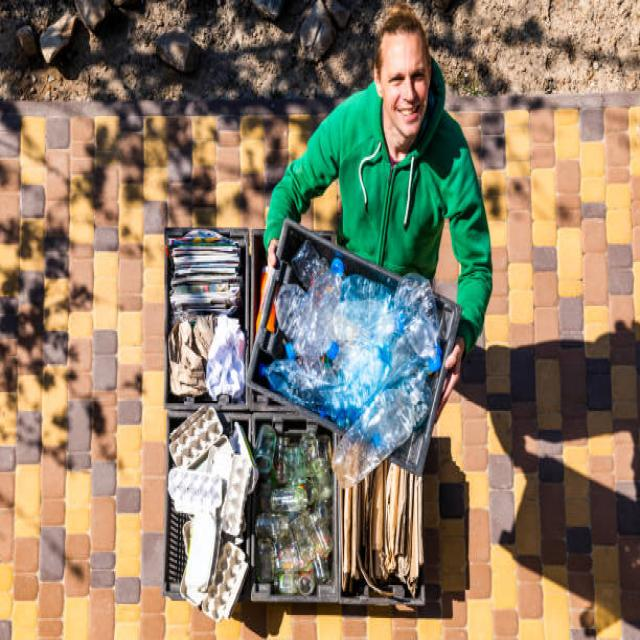cardboard: (170, 421, 250, 614), (350, 493, 426, 588)
glass: (258, 430, 329, 599)
paper: (174, 243, 240, 392)
plastic: (280, 243, 434, 435)
